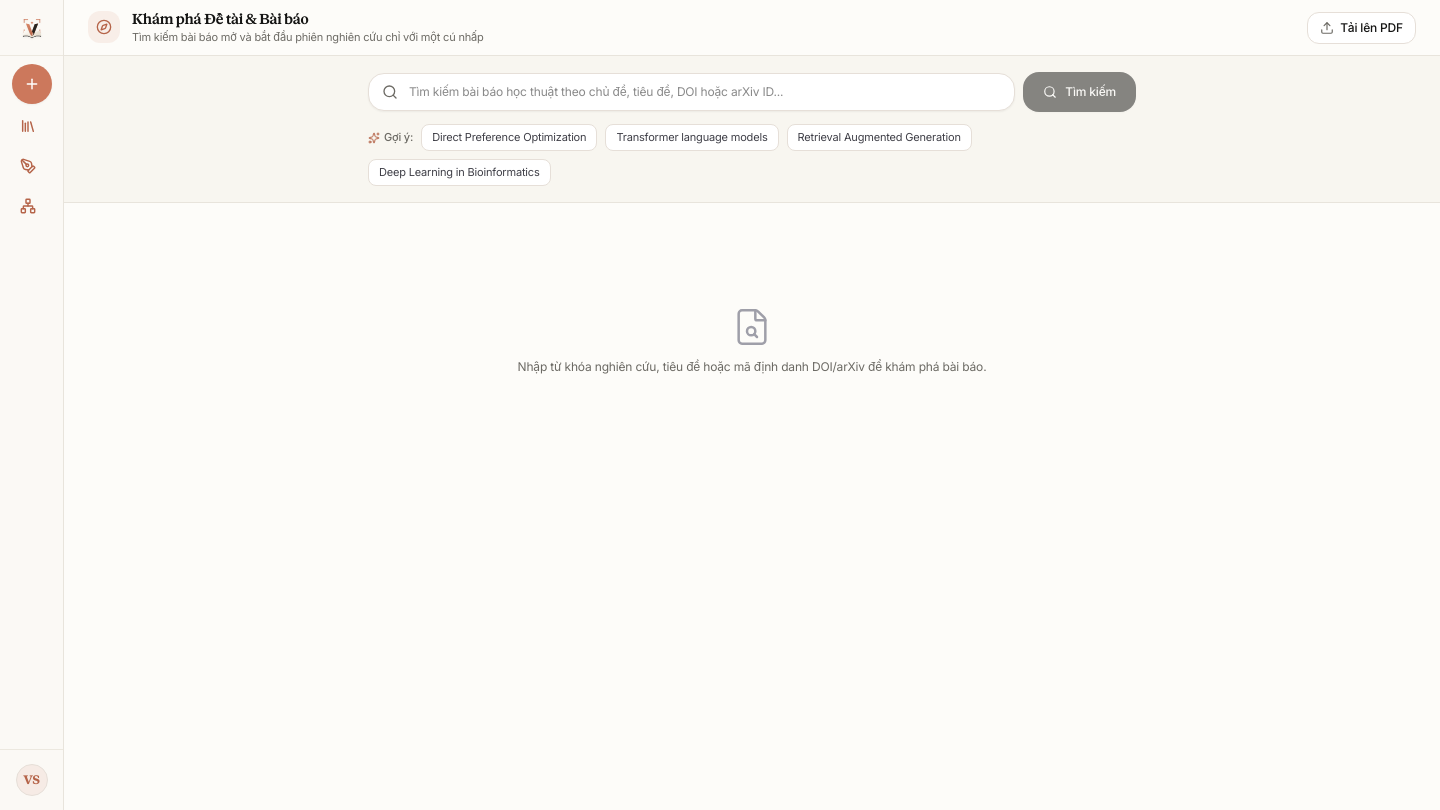
Test: DiscoveryPage Component › renders search bar and displays Open Access vs Abstract Only cards
Replace the text in the field with placeholder "Tìm kiếm bài báo" with "Transformer language models". click: coordinates (692, 92)
box: x1=368 y1=73 x2=1015 y2=111
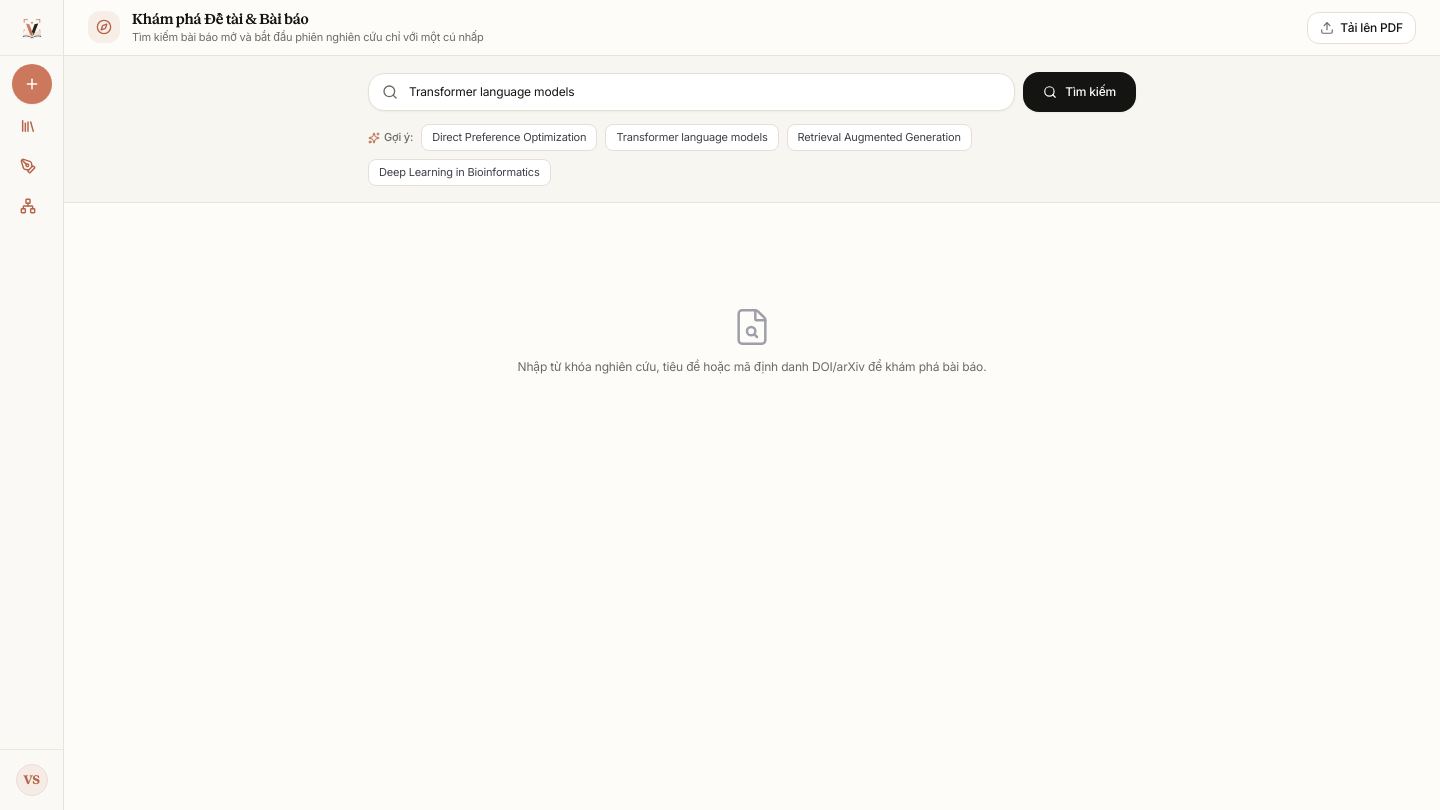
Press Enter in the field with placeholder "Tìm kiếm bài báo", box x1=368 y1=73 x2=1015 y2=111
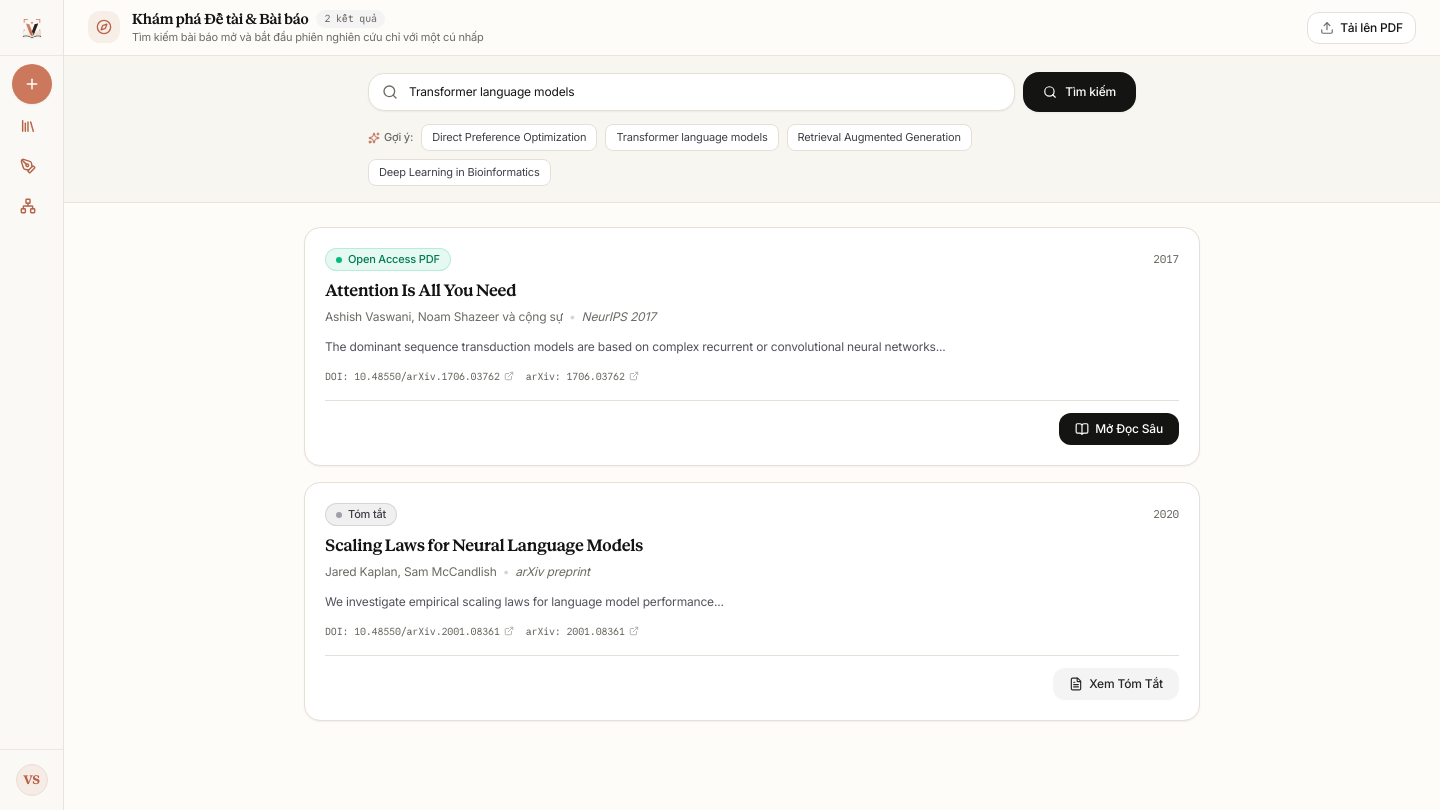
Check: the heading "Attention Is All You Need" is shown, box x1=325 y1=280 x2=516 y2=300
Check: the text "Mở Đọc Sâu" is shown, box x1=1095 y1=421 x2=1163 y2=437
Check: the heading "Scaling Laws for Neural Language Models" is shown, box x1=325 y1=535 x2=643 y2=555
